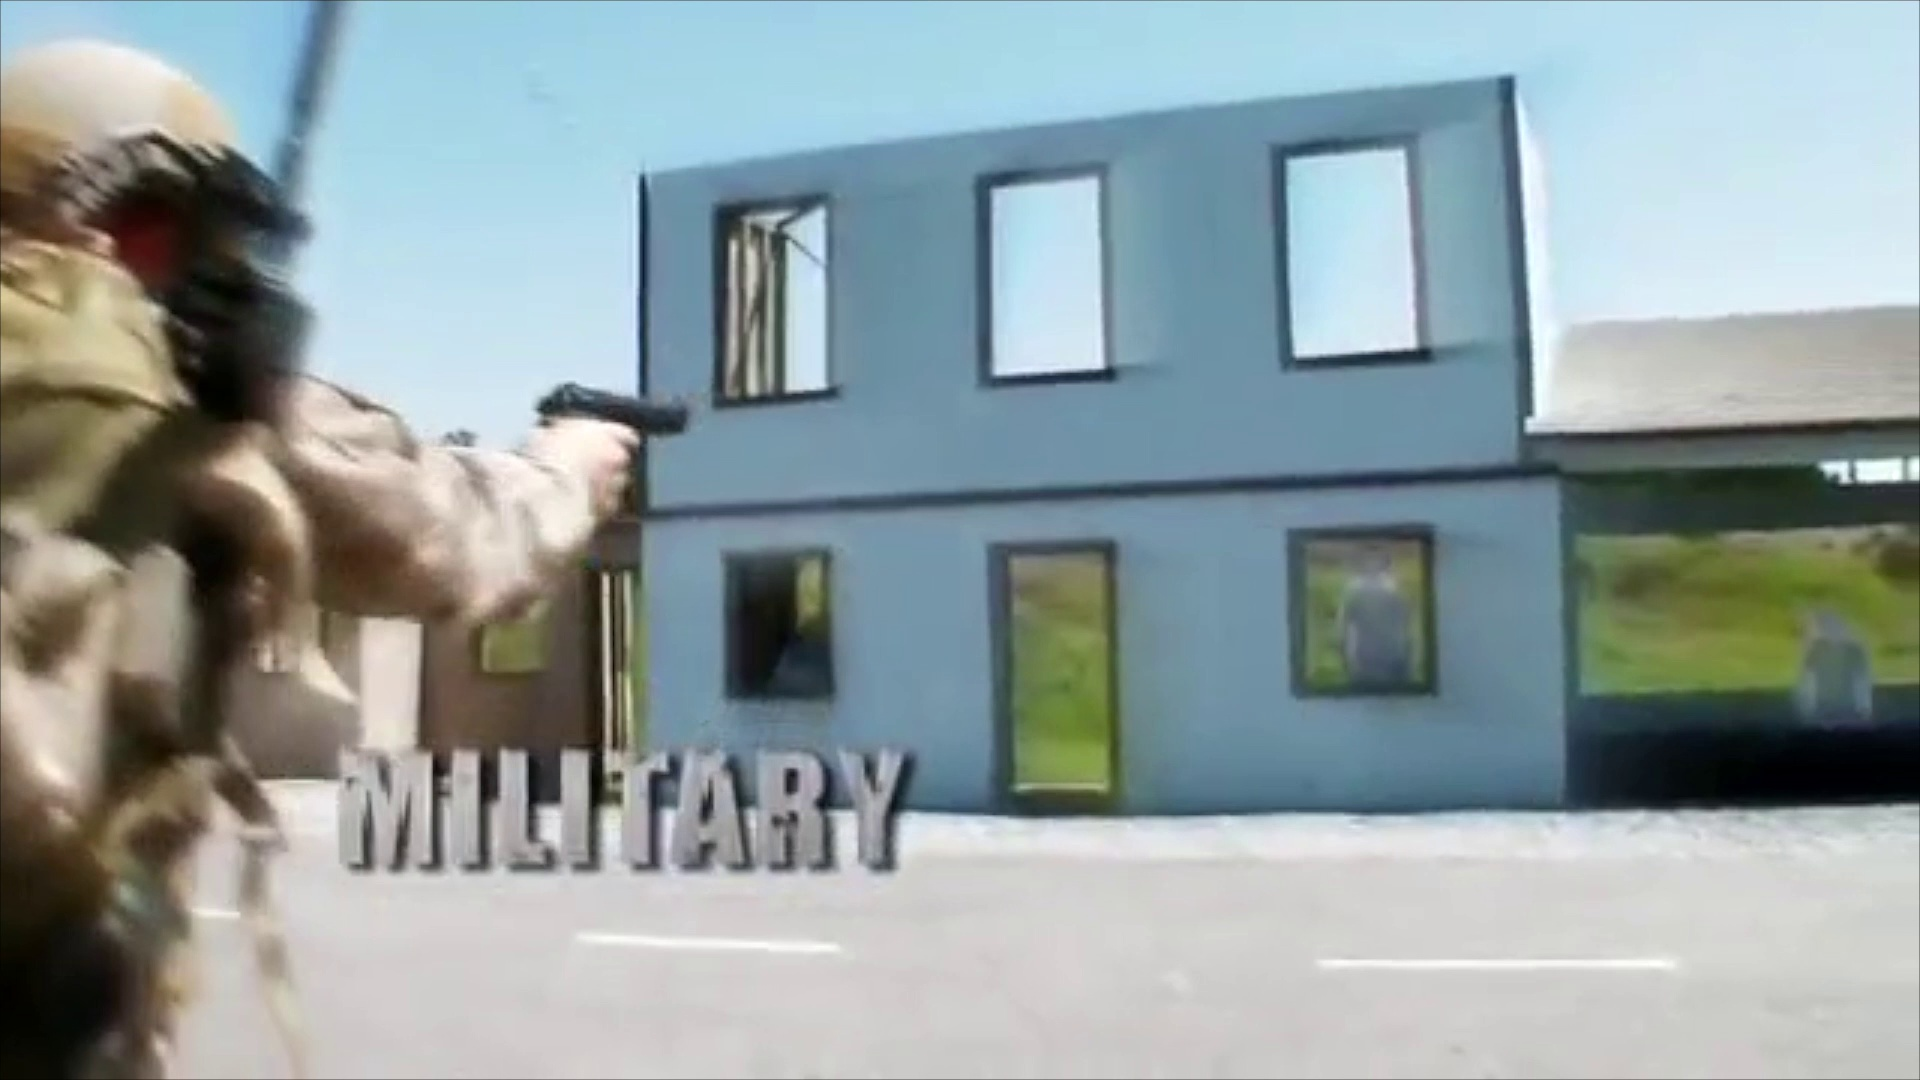gun: (530, 375, 698, 452)
